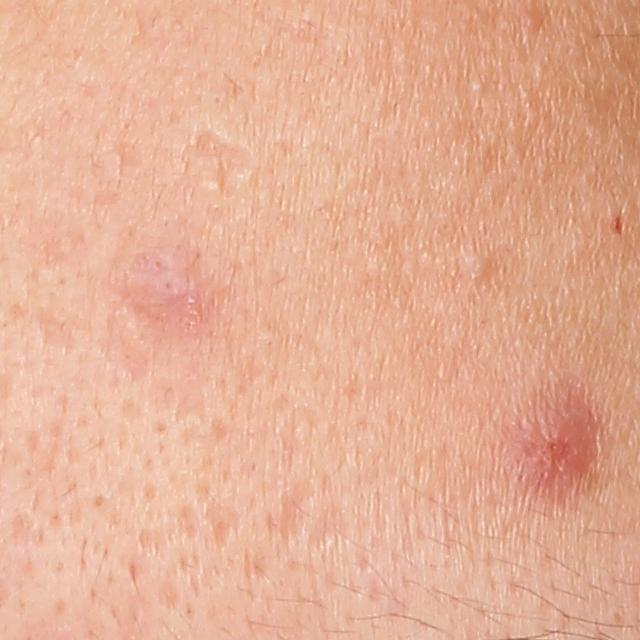atrophic_scar: (92, 317, 152, 386), (267, 474, 321, 549), (181, 131, 259, 180), (33, 299, 81, 354), (201, 500, 241, 551)
comedo: (456, 248, 488, 283), (199, 172, 229, 198), (468, 74, 489, 99), (518, 10, 541, 31)
papule: (128, 245, 209, 330), (516, 397, 589, 489)
